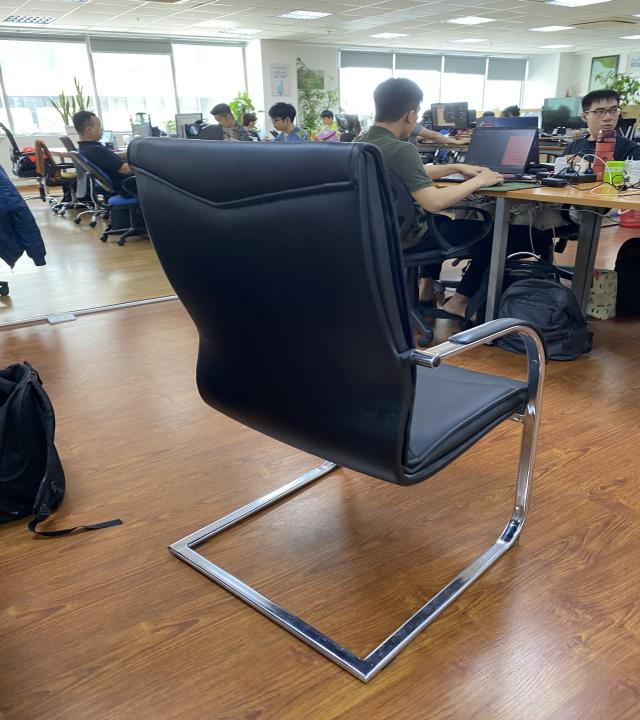SS_03: (127, 134, 549, 684)
